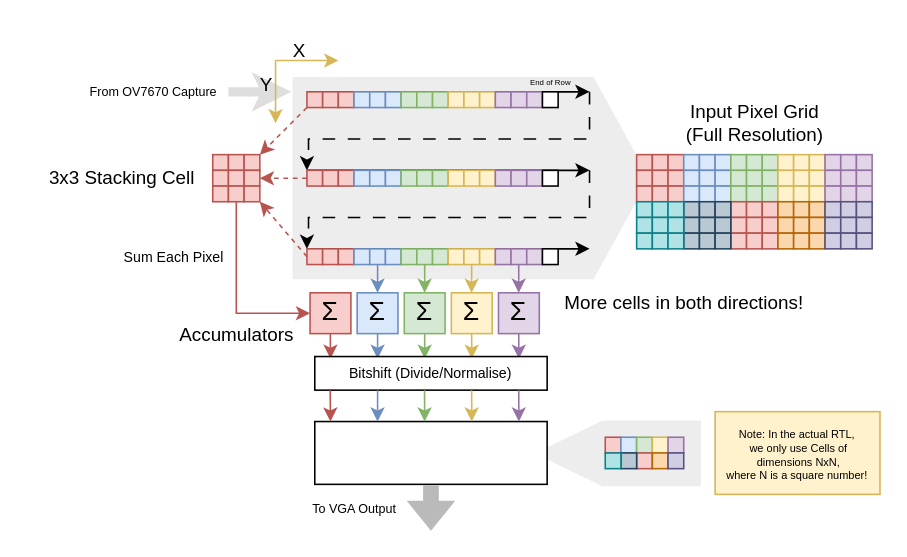
Image size: 907x557. Some labels were removed from this diagram. Each missing label, with the centre of its shape:
"BRAM" belongs at (430,452).
"Output Pixel Grid (Stacked and Binned, 1/3 Resolution)" belongs at (617,453).
